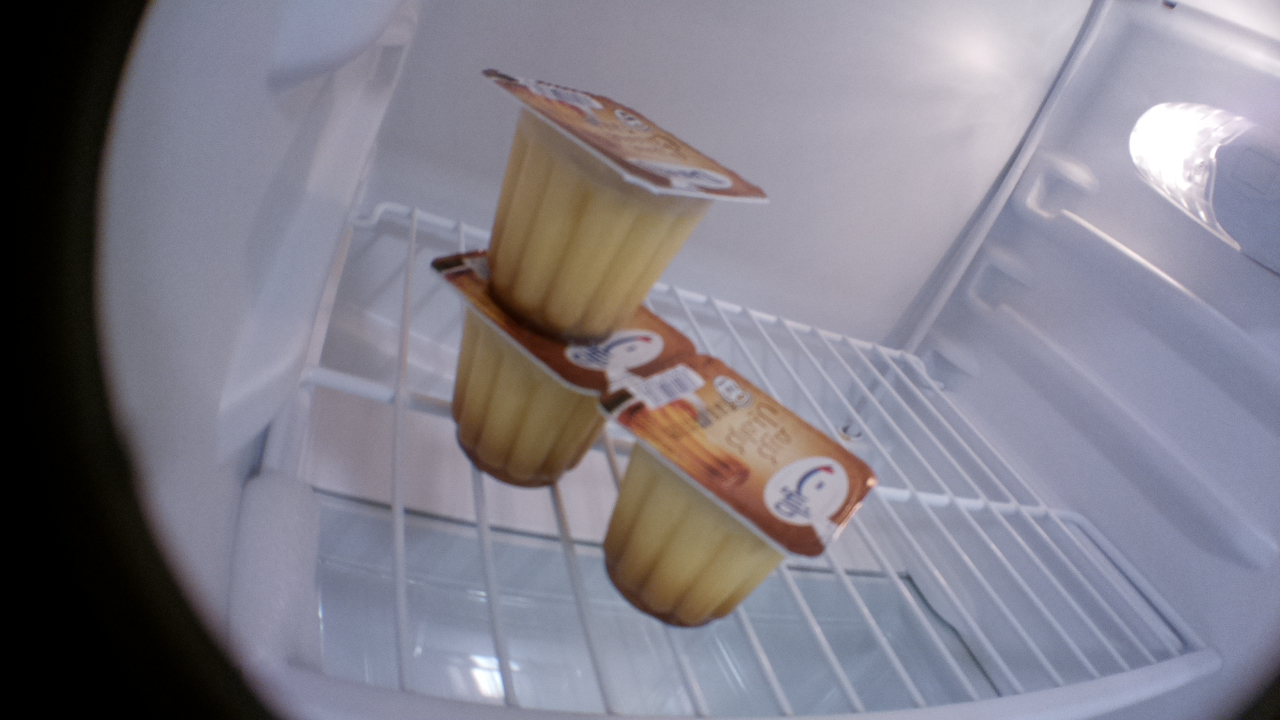caramel: (482, 67, 769, 347), (599, 349, 878, 631), (429, 237, 694, 488)
